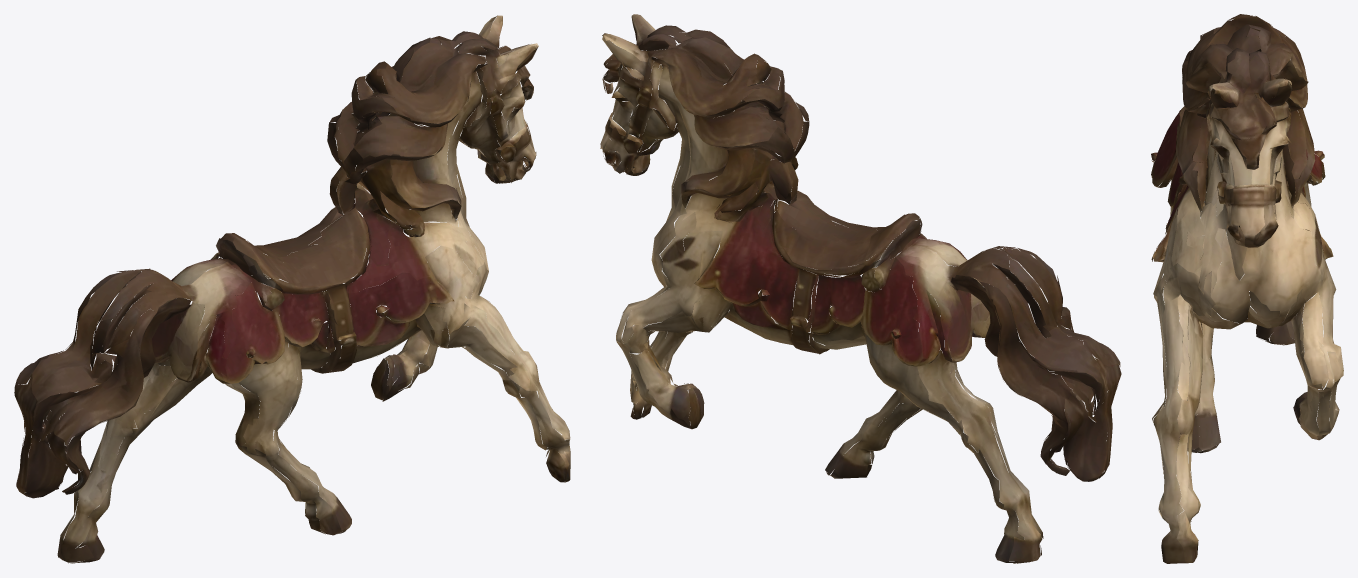
Rendered from nightwatch-horse.glb.
The picture shows the model from 3 angles, left to right: view 1: azimuth 30°, elevation 25°; view 2: azimuth 150°, elevation 25°; view 3: azimuth 270°, elevation 25°; orthographic projection. The views are drawn at different scales.
Parts seen in each view (by area): view 1: geometry_0; view 2: geometry_0; view 3: geometry_0.
Part boxes in pixels (x1,y1,x2,y2): geometry_0: (14, 15, 570, 563); geometry_0: (600, 14, 1121, 563); geometry_0: (1151, 14, 1343, 563).
Size of the model in its own units: 1.53 by 1.25 by 0.4483.
Materials: 1 (1 with a texture image).
